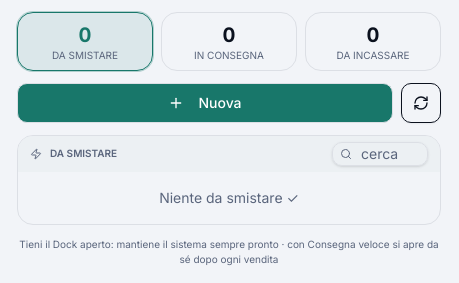
Test: Dock: i contatori sono filtri veri › nessun contatore a zero resta senza la sua lista vuota
Click the button with test id "dock-contatore-in_consegna". click: coordinates (229, 41)
box: 161,12 -> 297,70
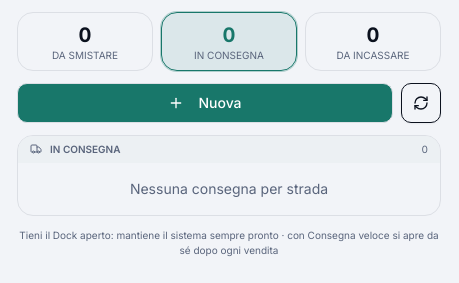
Result: the element with test id "dock-elenco-in-consegna" shows "Nessuna consegna per strada" at 130,180 -> 328,196
Click the button with test id "dock-contatore-incassare". click: coordinates (373, 41)
box: 305,12 -> 441,70
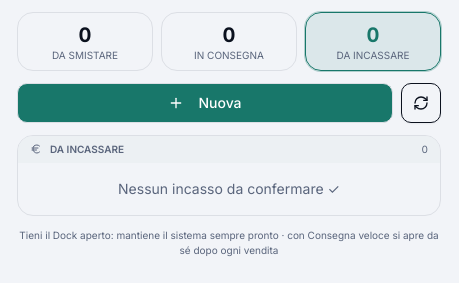
Result: the element with test id "dock-elenco-incassare" shows "Nessun incasso da confermare" at 118,180 -> 340,196
